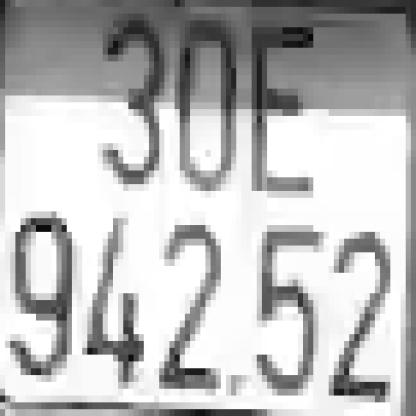0: (175, 14, 231, 184)
2: (324, 232, 390, 389), (159, 225, 216, 382)
3: (98, 21, 164, 184)
4: (87, 218, 139, 375)
5: (257, 225, 313, 382)
9: (10, 205, 72, 375)
E: (247, 27, 314, 198)
